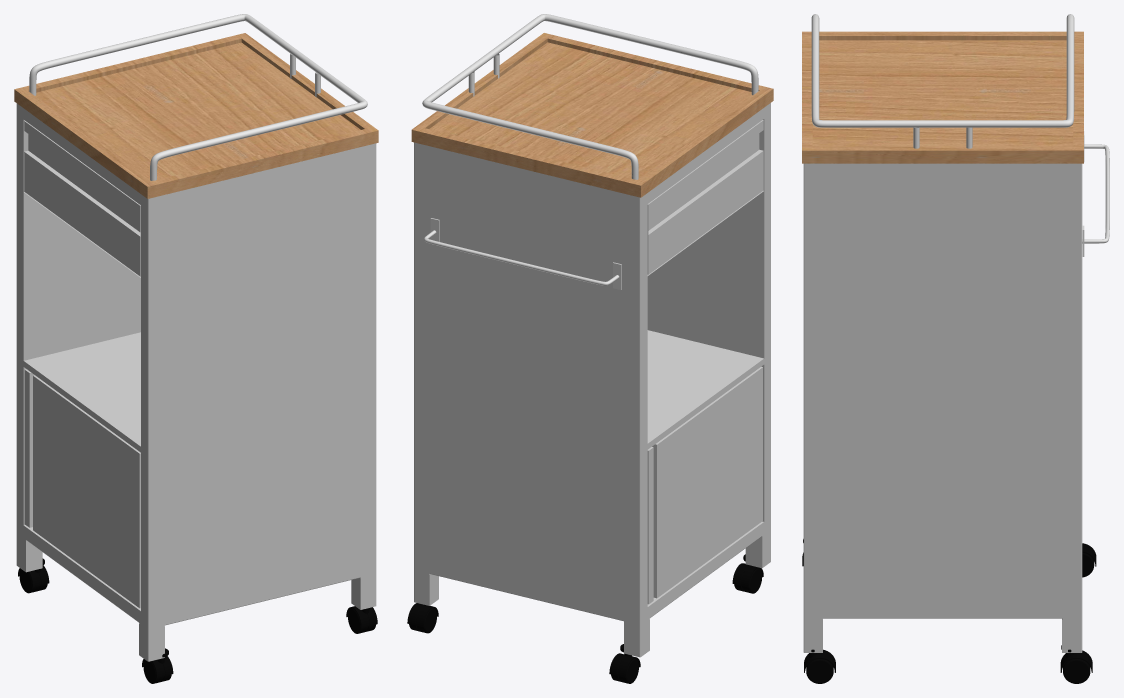
File: Mesa2_Consul.fbx
3 views of the same model, side by side, from view 1: azimuth 30°, elevation 25°; view 2: azimuth 150°, elevation 25°; view 3: azimuth 270°, elevation 25° (orthographic). The views are drawn at different scales.
Visible parts, largest first — view 1: Cube.027; view 2: Cube.027; view 3: Cube.027.
Boxes of the visible parts, bbox=[...] form: Cube.027: bbox=[14, 14, 378, 683]; Cube.027: bbox=[407, 14, 773, 683]; Cube.027: bbox=[802, 14, 1109, 683].
Size of the model in its own units: 59.23 by 130 by 64.65.
